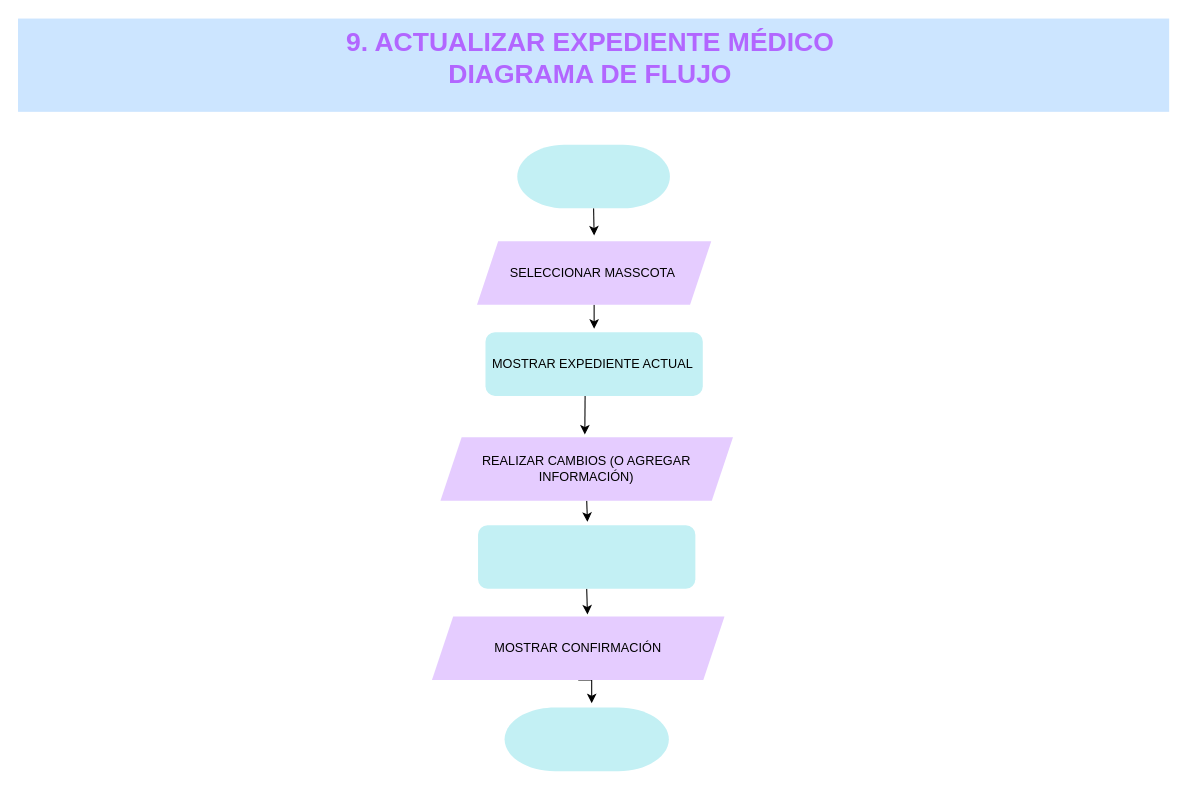
Image size: 1187x789. Some labels were removed from this diagram. Here are the shapes that lost their labels. From the top down, the centre of each, then its label:
(593,176): INICIO
(586,556): GUARDAR CAMBIOS
(586,739): FIN
